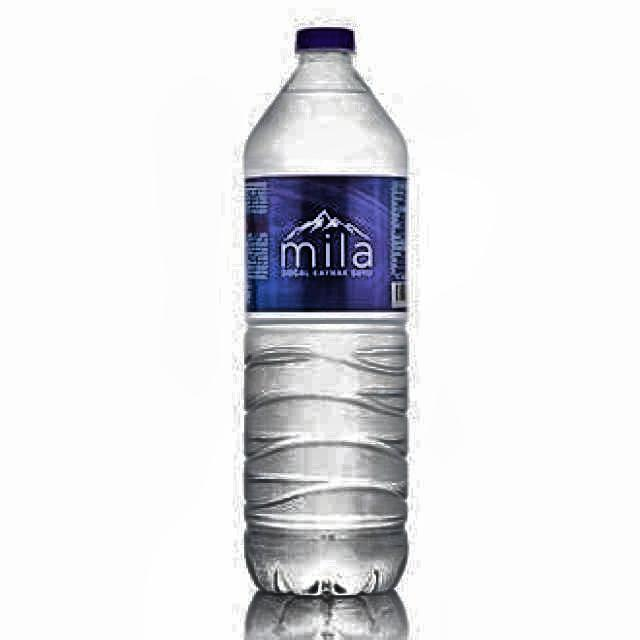plastic: (243, 28, 410, 640)
